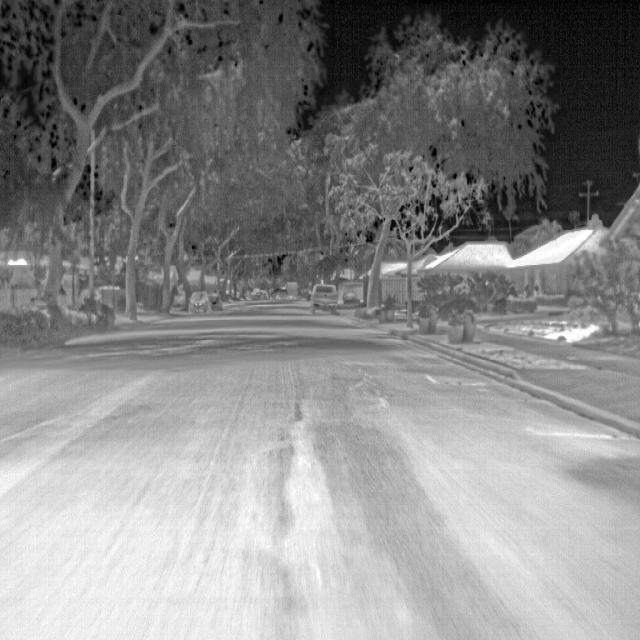Vehicle: (308, 281, 340, 316), (187, 289, 213, 318)
